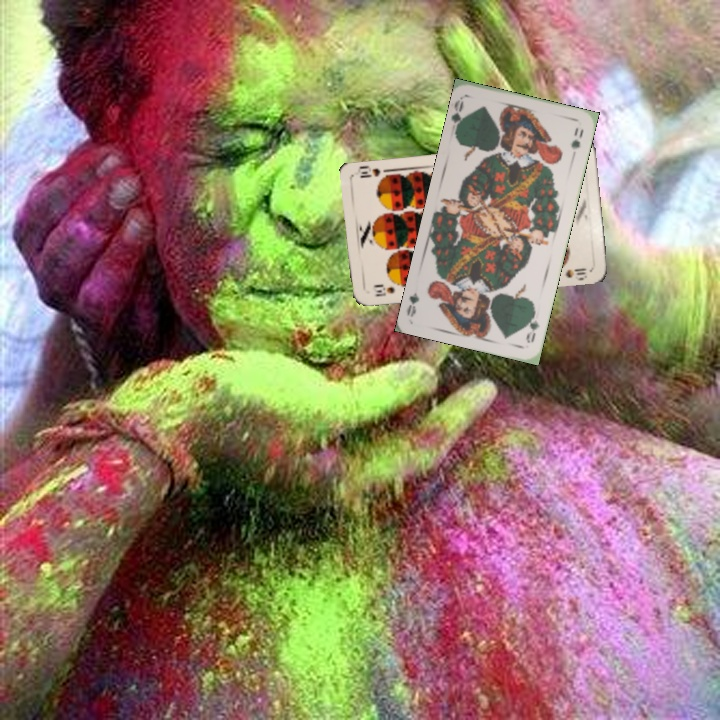GO: (448, 94, 470, 135), (522, 306, 542, 346)
S10: (370, 282, 397, 299)
